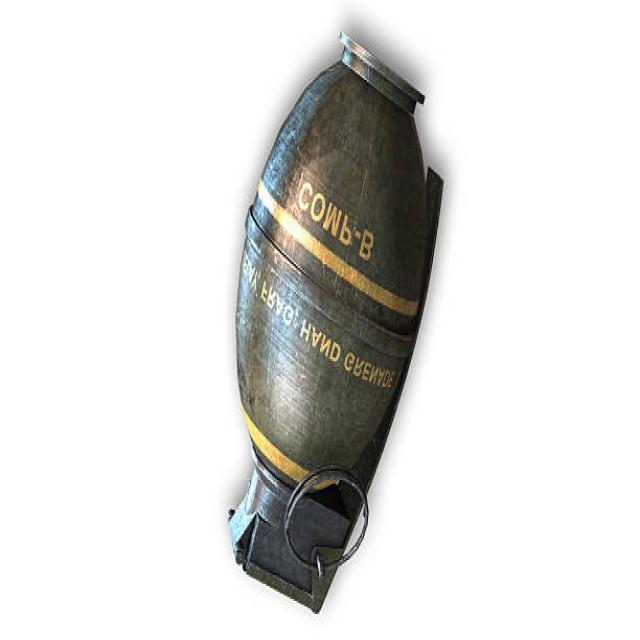grenade: (220, 30, 449, 630)
